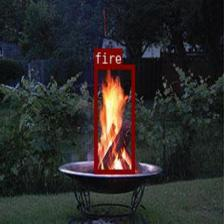fire: (94, 64, 134, 172)
